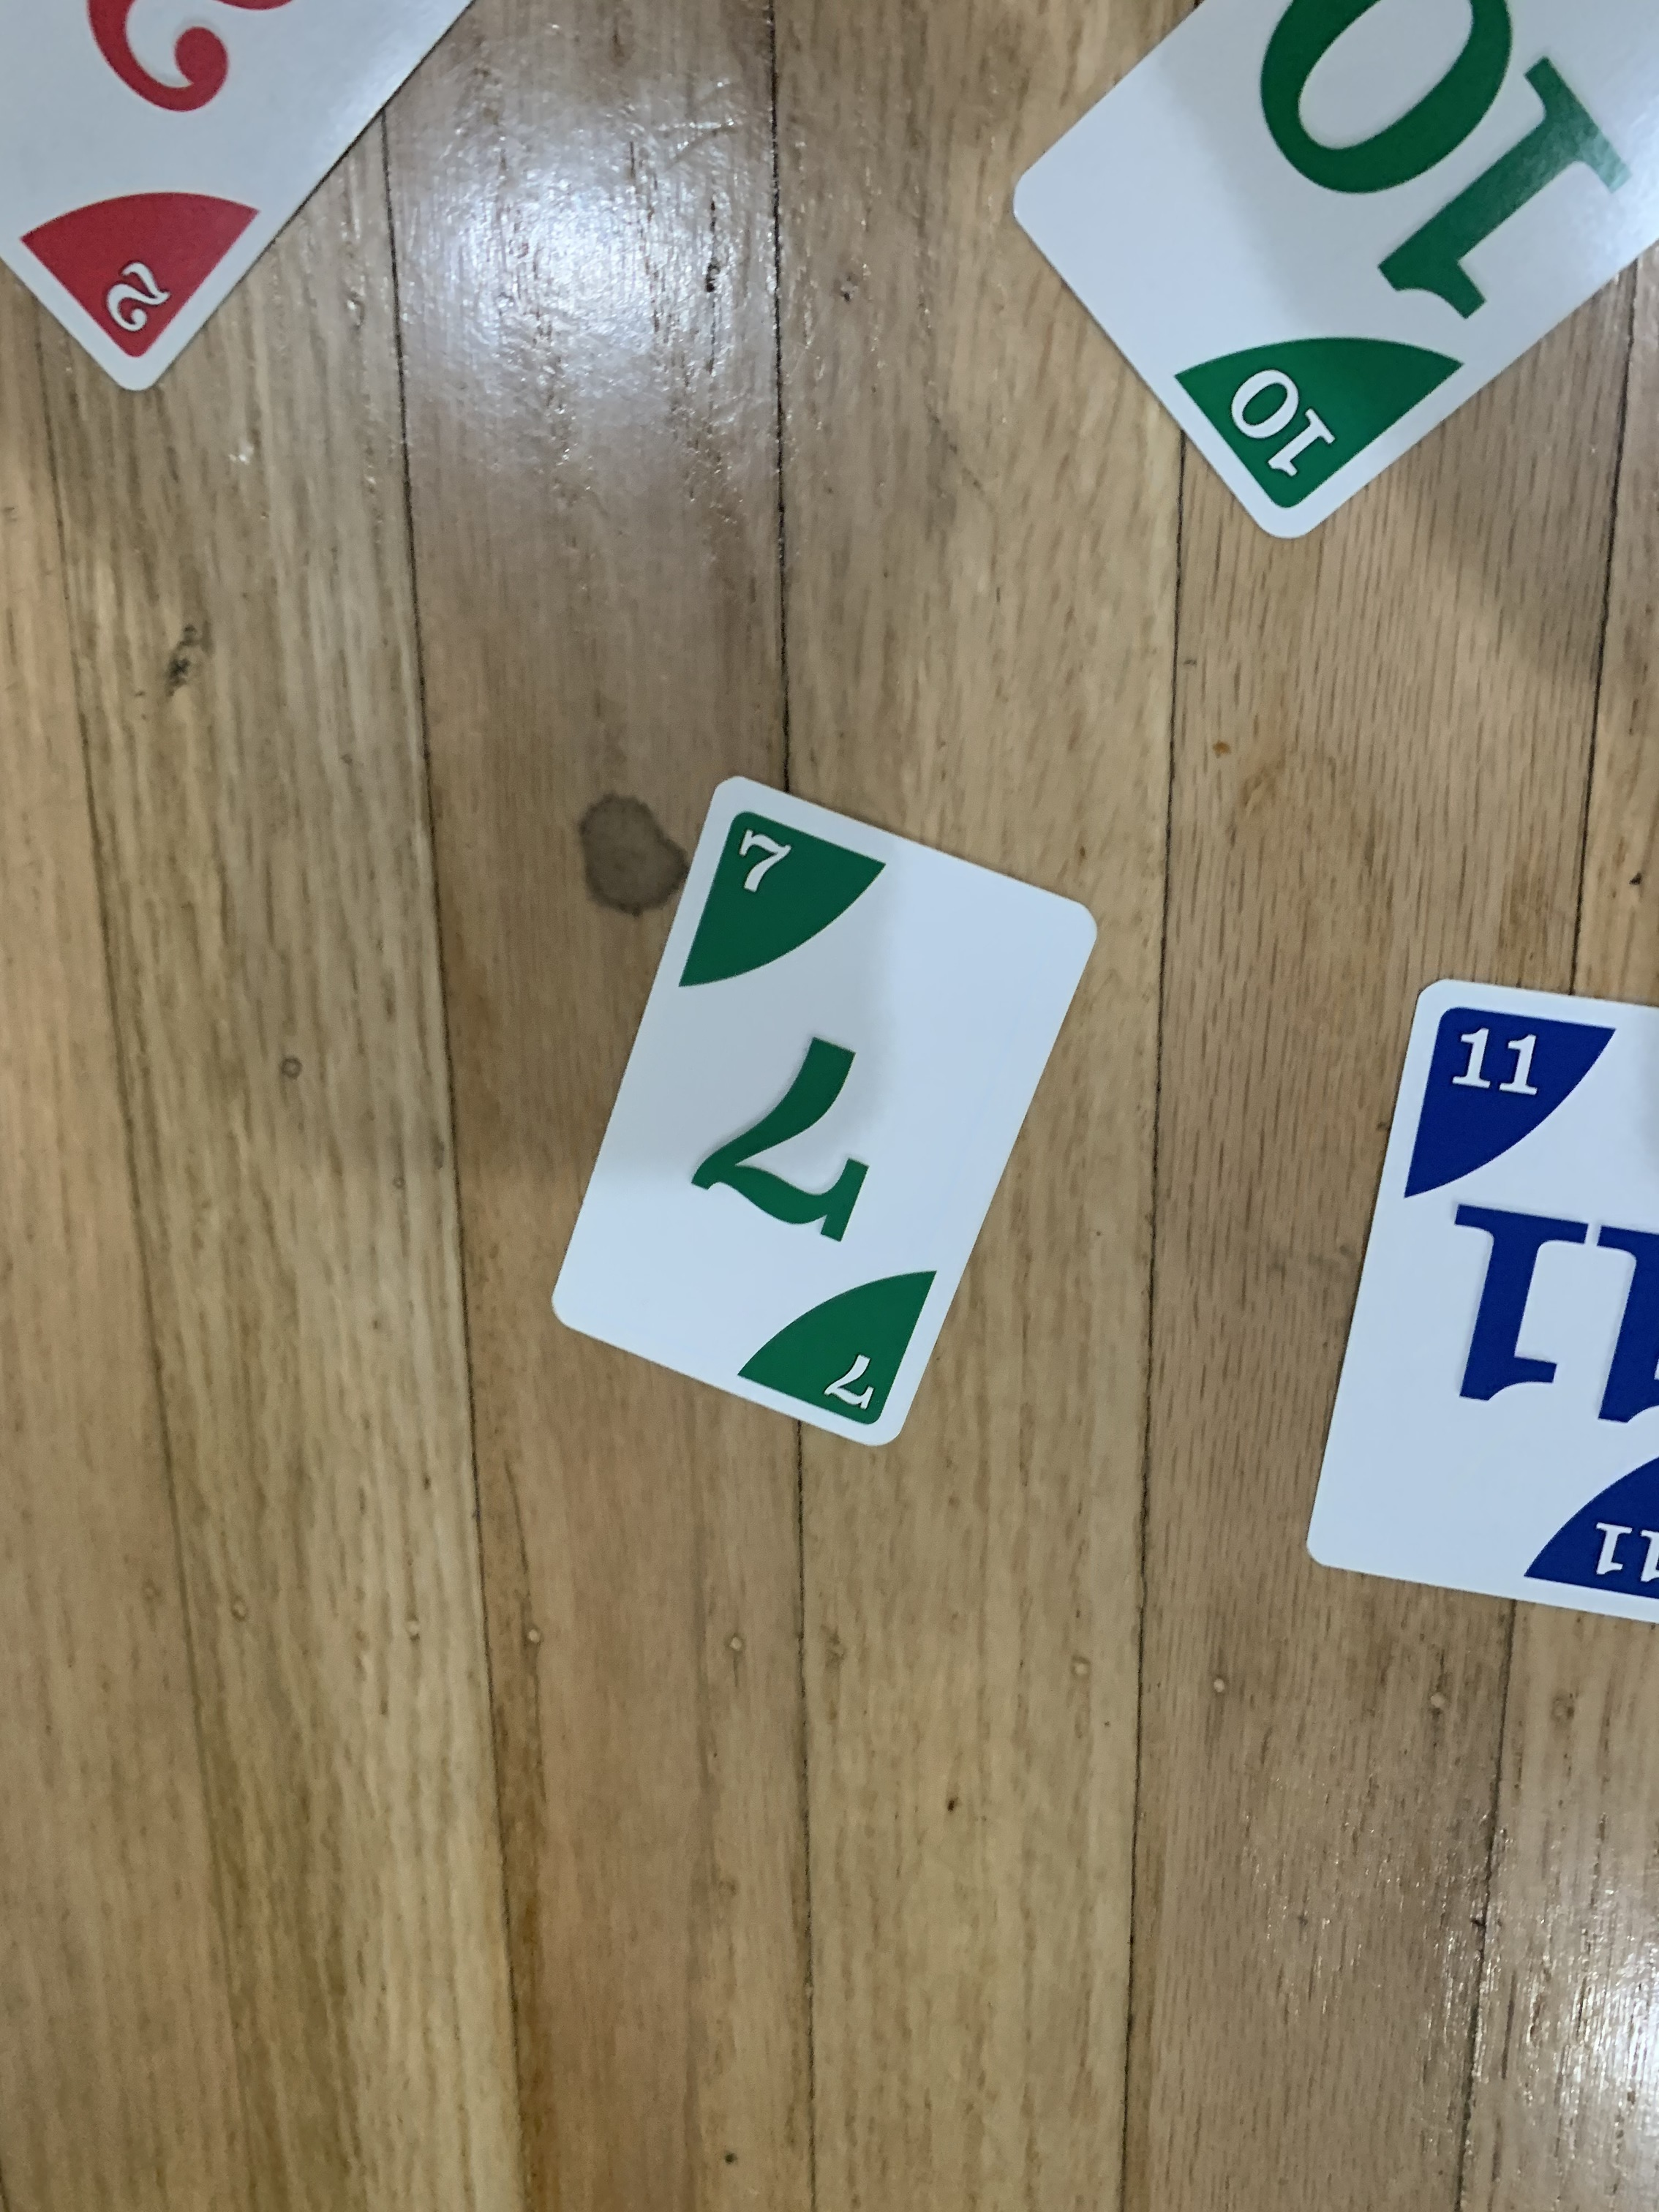eleven: (1286, 970, 1659, 1641)
seven: (532, 758, 1105, 1465)
